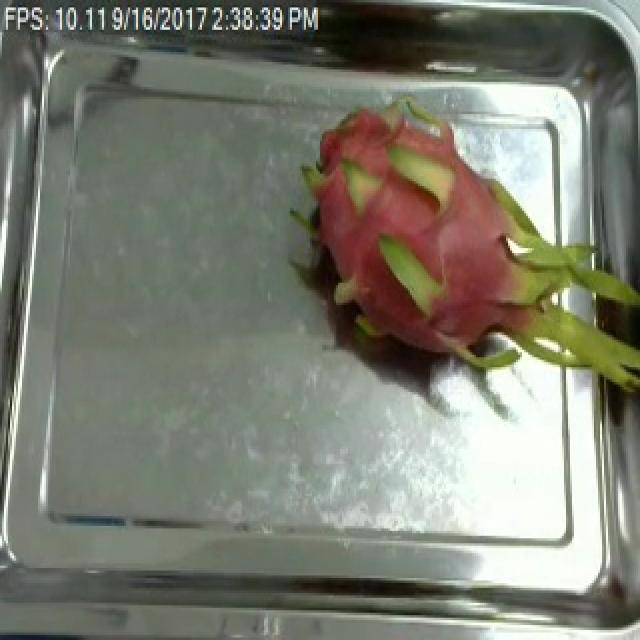fruit: (266, 84, 634, 434)
